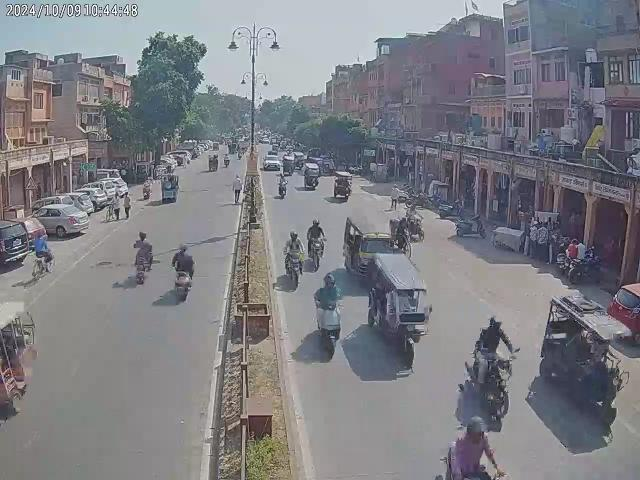auto: (536, 290, 626, 418), (367, 250, 433, 367), (0, 304, 38, 420), (344, 214, 393, 278), (334, 170, 353, 202), (160, 173, 180, 203), (303, 162, 320, 190), (208, 153, 218, 172)
bicycle-rider: (31, 232, 54, 281), (104, 193, 122, 223)
car: (608, 279, 640, 349), (2, 212, 41, 268), (30, 202, 90, 238), (78, 177, 130, 208)
helmet: (465, 417, 488, 444), (323, 272, 336, 289), (490, 314, 502, 332), (289, 230, 298, 241), (311, 219, 321, 227), (180, 242, 188, 251), (139, 230, 147, 238)
motorbike: (568, 256, 606, 285), (406, 192, 428, 209)
motorbike-rider: (466, 316, 520, 418), (435, 417, 507, 479), (304, 218, 328, 270), (281, 231, 304, 283), (132, 230, 154, 284), (405, 204, 425, 241)
person: (529, 220, 552, 257), (567, 236, 584, 262), (119, 192, 132, 220), (390, 184, 402, 210), (232, 174, 241, 204)
rickshow: (390, 215, 413, 256)
scooty-rider: (314, 275, 342, 356), (170, 244, 194, 298), (456, 212, 486, 238), (438, 197, 464, 218), (277, 174, 289, 199), (142, 178, 154, 199)
